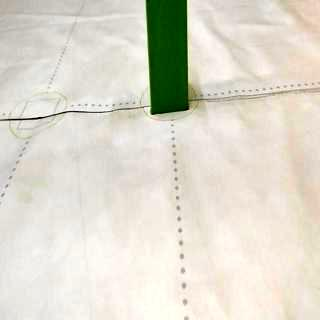greenbox: (144, 1, 192, 112)
